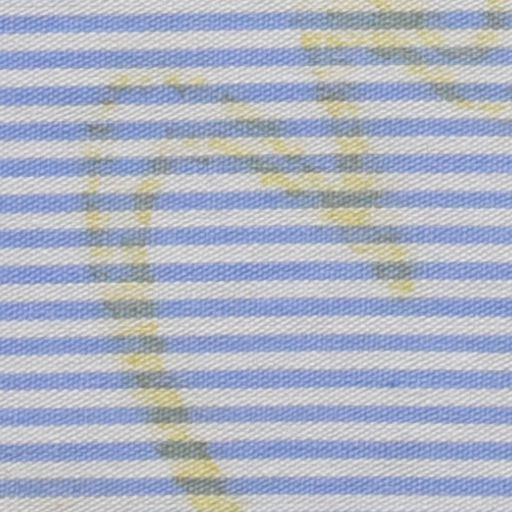defect: (82, 1, 512, 507)
